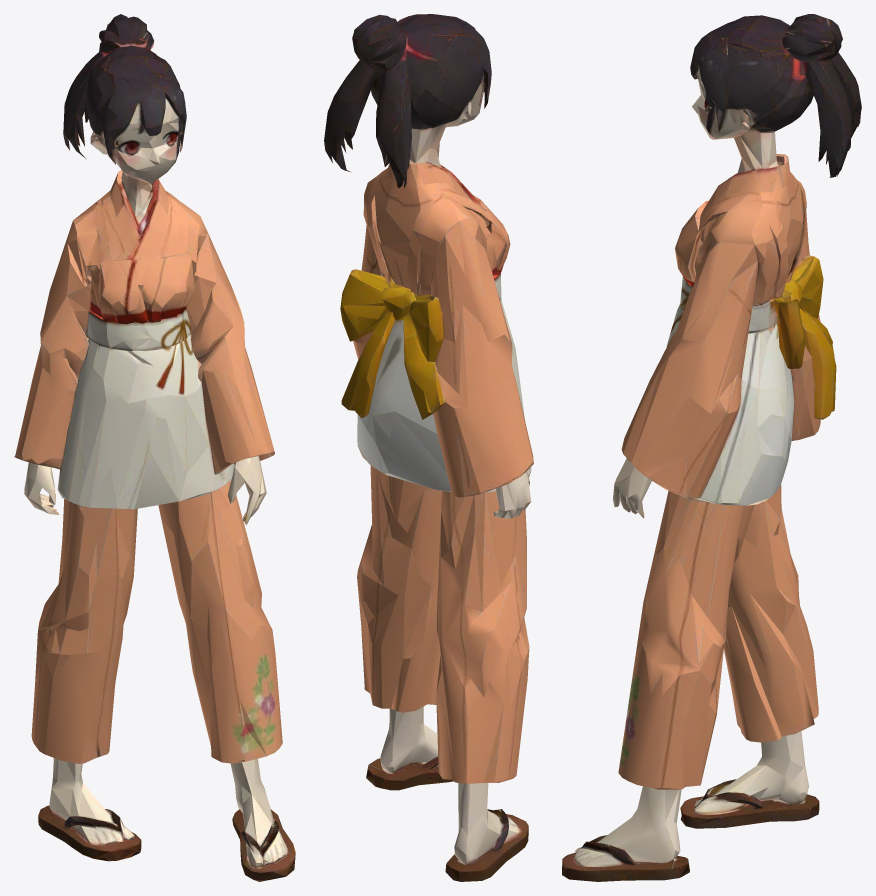
The model's file is villager_woman.glb.
3 renders of one model, left to right at view 1: azimuth 30°, elevation 25°; view 2: azimuth 150°, elevation 25°; view 3: azimuth 270°, elevation 25°, orthographic. The views are drawn at different scales.
Size of the model in its own units: 0.5146 by 1.9 by 0.6142.
Materials: 1 (1 with a texture image).
